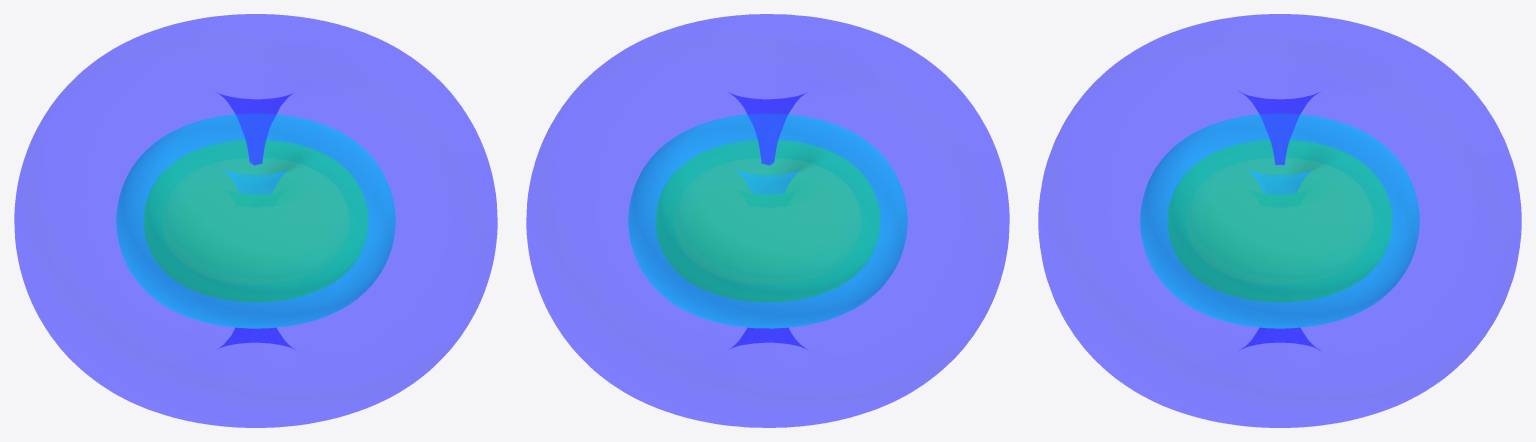
File: orbital_n2_l1_m-1_complex_multilayer.fbx
The picture shows the model from 3 angles, left to right: view 1: azimuth 30°, elevation 25°; view 2: azimuth 150°, elevation 25°; view 3: azimuth 270°, elevation 25°; orthographic projection.
Parts seen in each view (by area): view 1: orbital_n2_l1_m-1_complex_multilayer; view 2: orbital_n2_l1_m-1_complex_multilayer; view 3: orbital_n2_l1_m-1_complex_multilayer.
Part boxes in pixels (x1,y1,x2,y2): orbital_n2_l1_m-1_complex_multilayer: (14,14,497,427); orbital_n2_l1_m-1_complex_multilayer: (526,14,1009,427); orbital_n2_l1_m-1_complex_multilayer: (1038,14,1521,427).
Size of the model in its own units: 1960 by 1388 by 1960.
